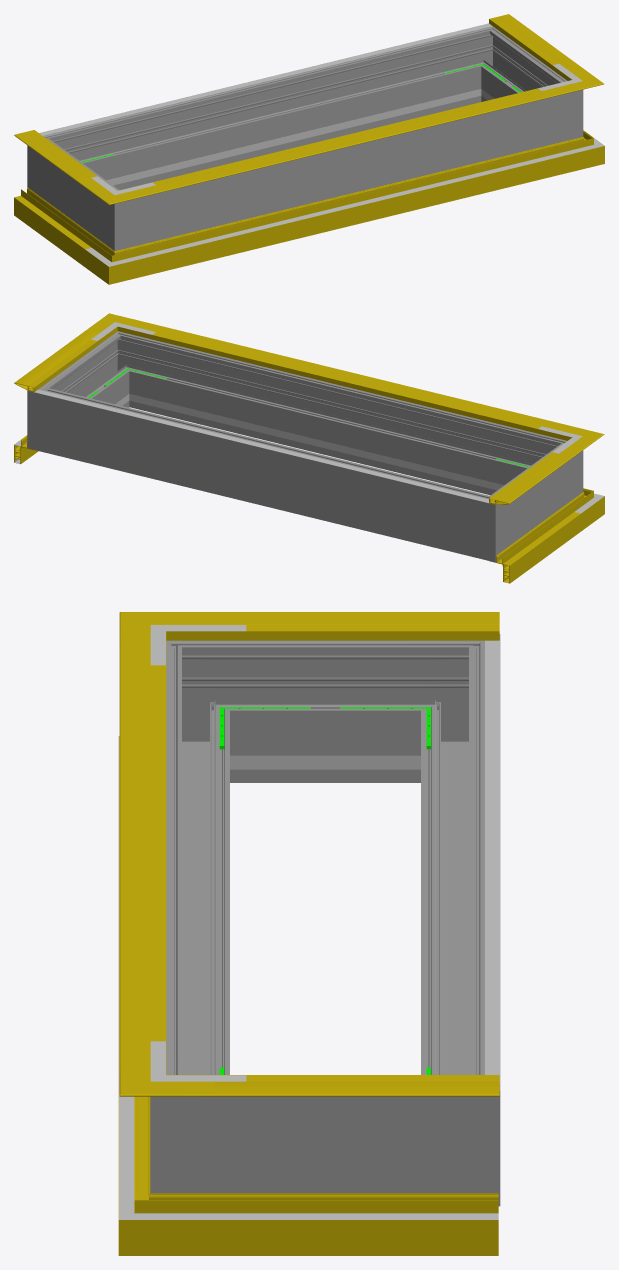
3 views of the same model, one above another, from view 1: azimuth 30°, elevation 25°; view 2: azimuth 150°, elevation 25°; view 3: azimuth 270°, elevation 25° (orthographic). The views are drawn at different scales.
Parts seen in each view (by area): view 1: 3DGeom-276, 3DGeom-298, 3DGeom-90, 3DGeom-141, 3DGeom-270, 3DGeom-244, 3DGeom-284, 3DGeom-85, 3DGeom-290, 3DGeom-297, 3DGeom-220, 3DGeom-86 (+13 smaller); view 2: 3DGeom-298, 3DGeom-276, 3DGeom-141, 3DGeom-278, 3DGeom-284, 3DGeom-85, 3DGeom-239, 3DGeom-290, 3DGeom-297, 3DGeom-220, 3DGeom-268, 3DGeom-158 (+10 smaller); view 3: 3DGeom-276, 3DGeom-298, 3DGeom-268, 3DGeom-97, 3DGeom-297, 3DGeom-141, 3DGeom-284, 3DGeom-290, 3DGeom-278, 3DGeom-270, 3DGeom-147, 3DGeom-220 (+15 smaller).
Part boxes in pixels (<box>): 3DGeom-276: <box>72,34,474,189</box>; 3DGeom-298: <box>156,99,541,240</box>; 3DGeom-90: <box>142,143,563,274</box>; 3DGeom-141: <box>143,88,562,194</box>; 3DGeom-270: <box>91,179,155,250</box>; 3DGeom-244: <box>121,98,441,183</box>; 3DGeom-284: <box>458,26,512,103</box>; 3DGeom-85: <box>14,187,98,266</box>; 3DGeom-290: <box>542,70,583,146</box>; 3DGeom-297: <box>485,41,552,100</box>; 3DGeom-220: <box>39,23,492,135</box>; 3DGeom-86: <box>85,240,150,284</box>; 3DGeom-298: <box>136,339,537,495</box>; 3DGeom-276: <box>68,395,461,552</box>; 3DGeom-141: <box>139,323,562,436</box>; 3DGeom-278: <box>454,484,519,562</box>; 3DGeom-284: <box>27,375,76,458</box>; 3DGeom-85: <box>490,504,581,583</box>; 3DGeom-239: <box>169,403,488,488</box>; 3DGeom-290: <box>98,331,152,408</box>; 3DGeom-297: <box>58,346,125,406</box>; 3DGeom-220: <box>34,389,488,502</box>; 3DGeom-268: <box>506,455,559,538</box>; 3DGeom-158: <box>153,332,541,428</box>; 3DGeom-276: <box>421,674,500,1074</box>; 3DGeom-298: <box>166,674,229,1074</box>; 3DGeom-268: <box>246,640,404,782</box>; 3DGeom-97: <box>214,1193,498,1255</box>; 3DGeom-297: <box>246,1096,404,1193</box>; 3DGeom-141: <box>119,652,166,1054</box>; 3DGeom-284: <box>405,1050,500,1206</box>; 3DGeom-290: <box>150,1050,245,1193</box>; 3DGeom-278: <box>405,634,500,782</box>; 3DGeom-270: <box>166,640,245,782</box>; 3DGeom-147: <box>215,612,499,640</box>; 3DGeom-220: <box>485,640,499,1084</box>.
Size of the model in its own units: 1.83 by 0.2829 by 0.6096.
